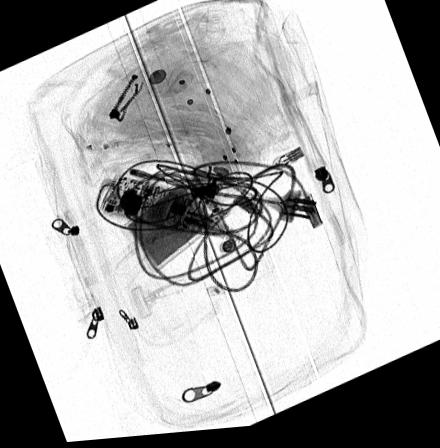Powerbank: (120, 171, 231, 275)
